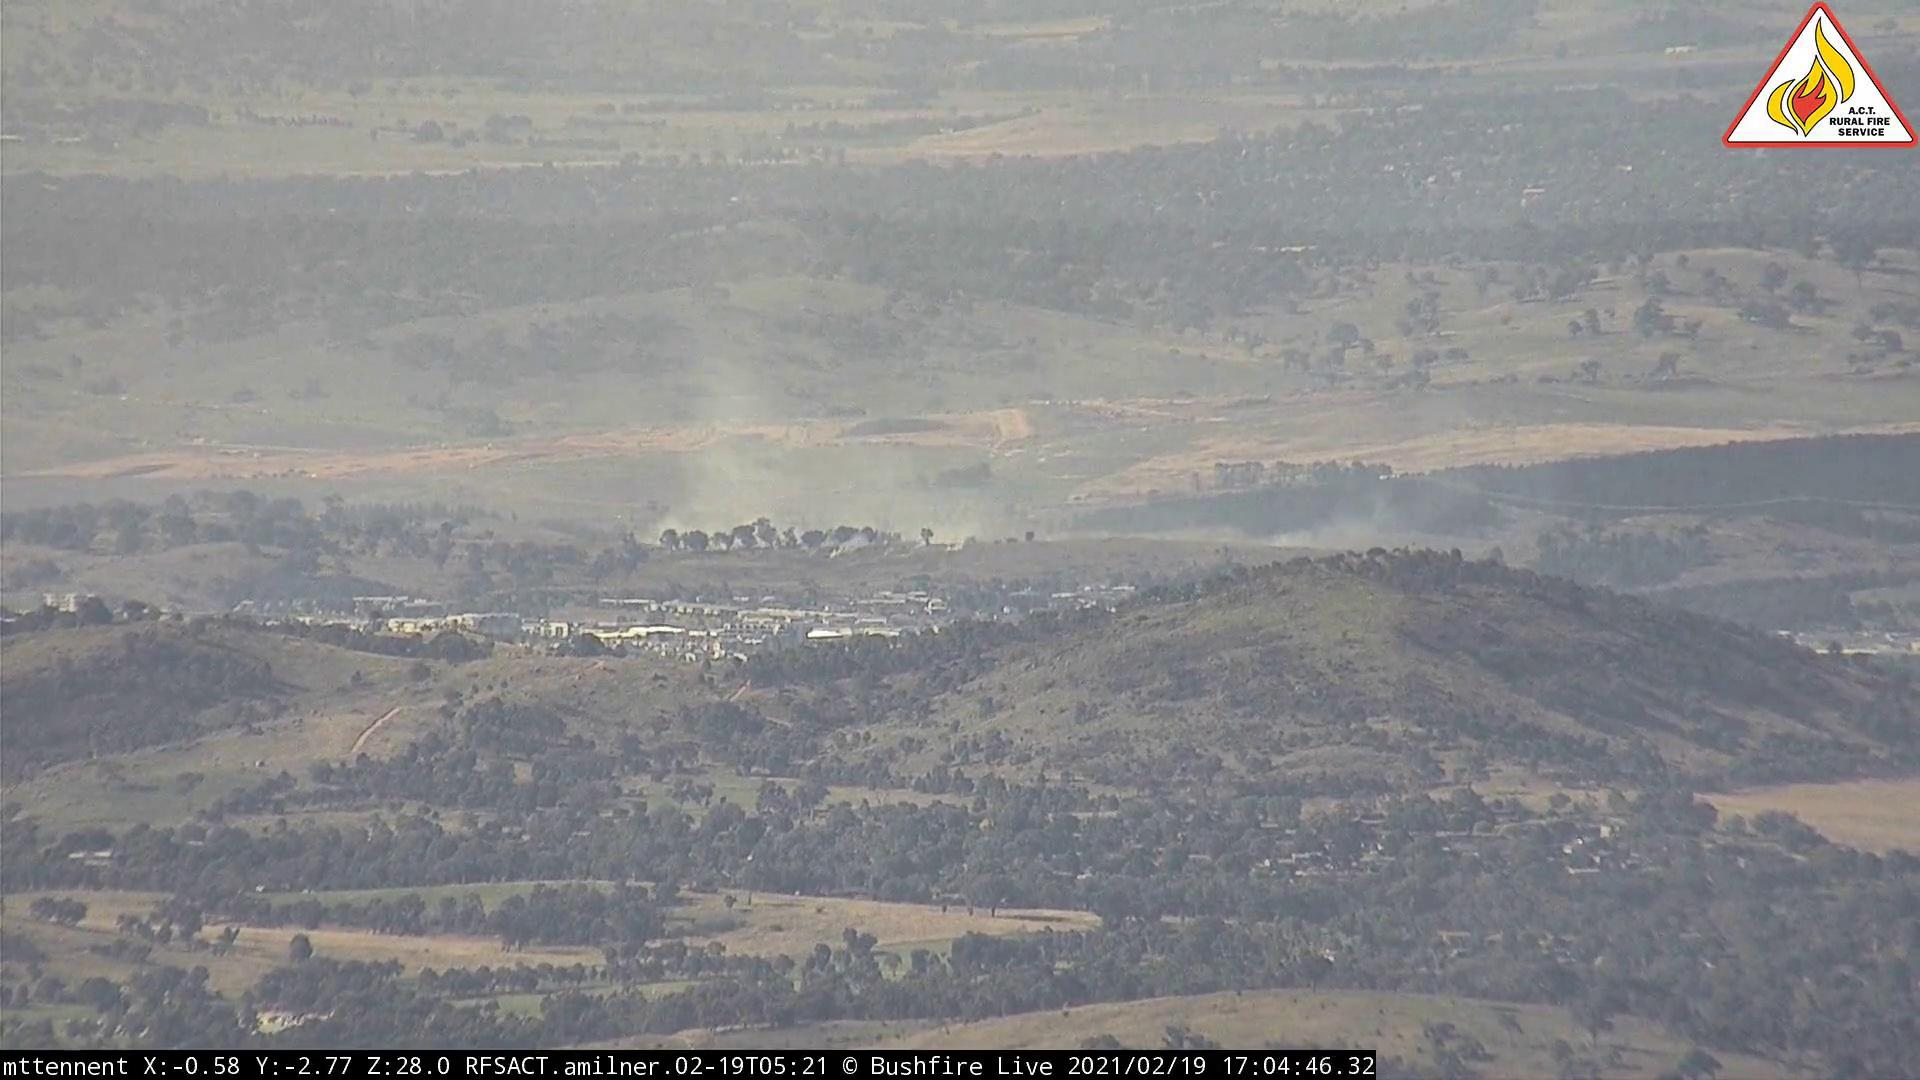instance_salient_object: (638, 309, 1068, 549), (1274, 423, 1502, 555)
